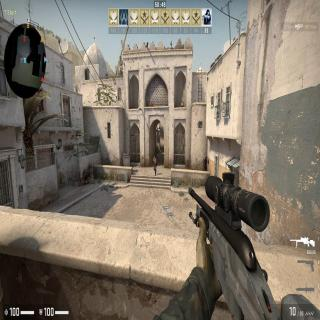T-Body: (153, 154, 157, 175)
T-Head: (154, 155, 154, 158)
